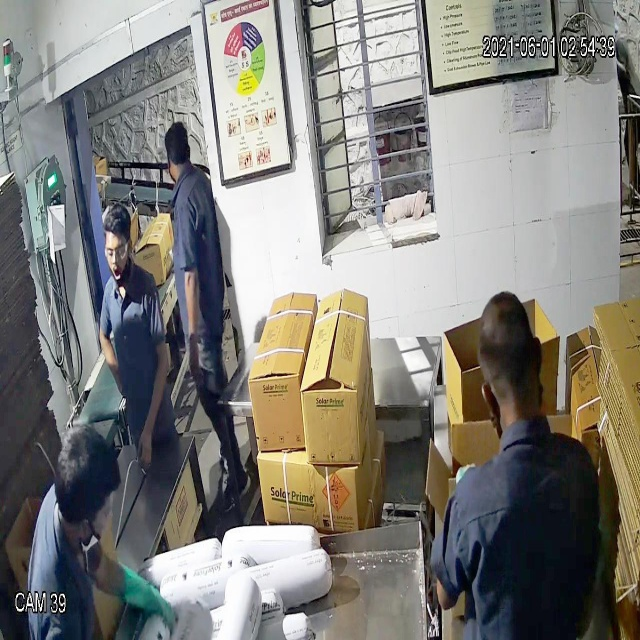Gafas: (101, 229, 136, 270)
